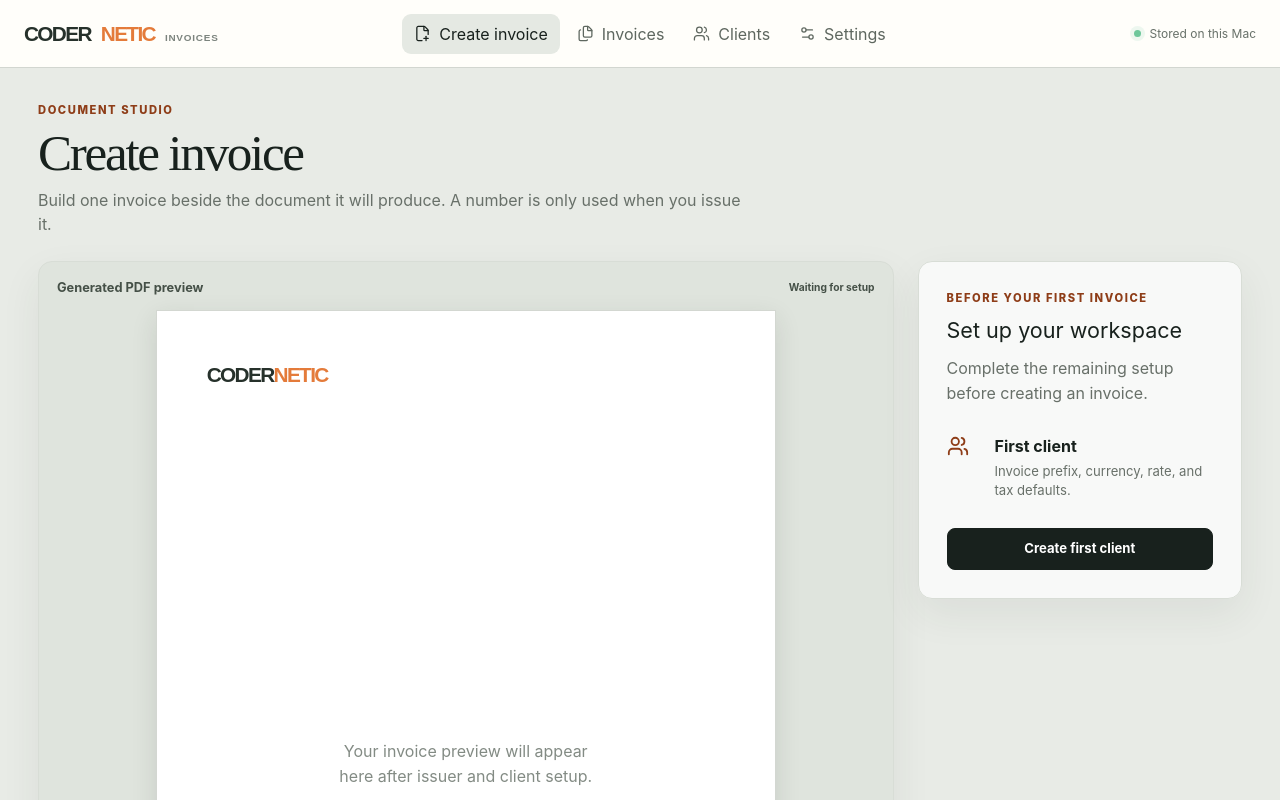
Test: empty workspace › queues a reverted value after an in-flight autosave
This screenshot has width=1280, height=800.
Click the button "Settings": (842, 34) [787,14,898,54]
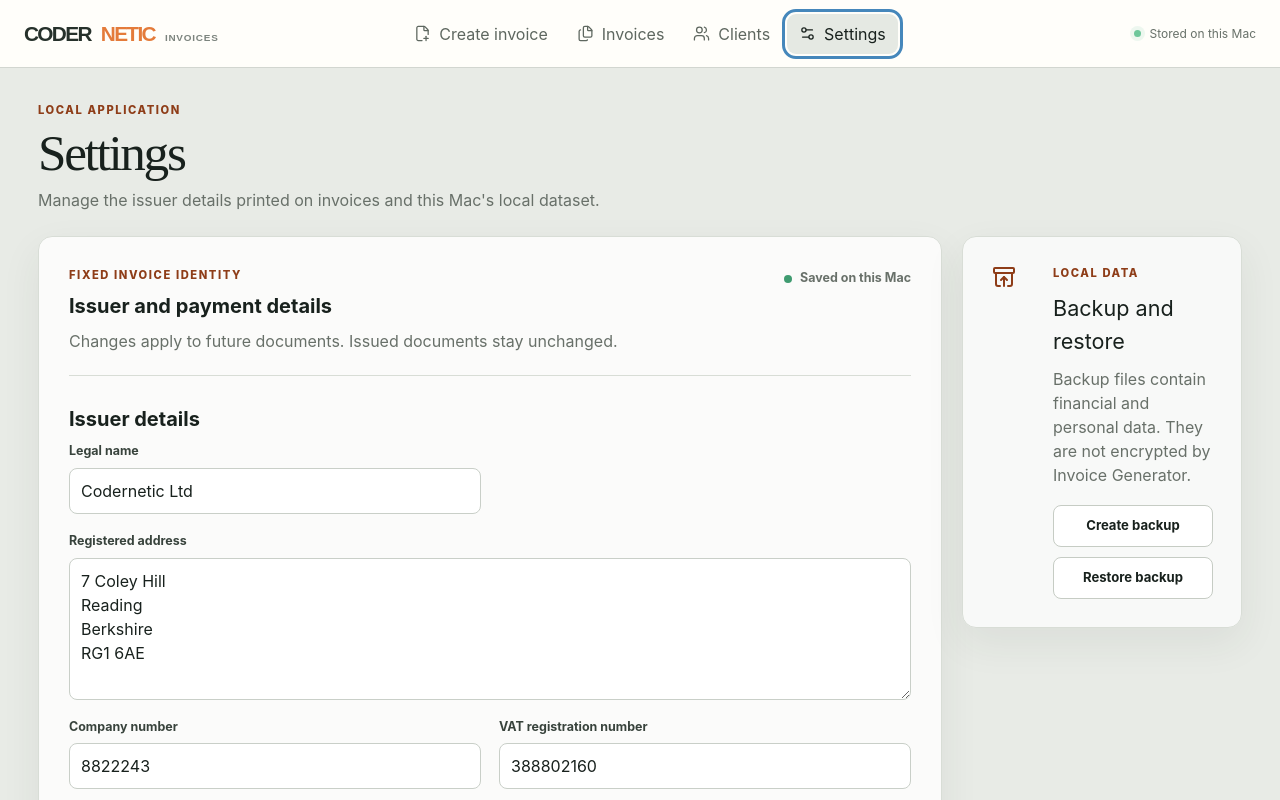
Replace the text in the field labelled "Legal name" with "Codernetic Studio Ltd": (275, 491) [69,468,481,514]
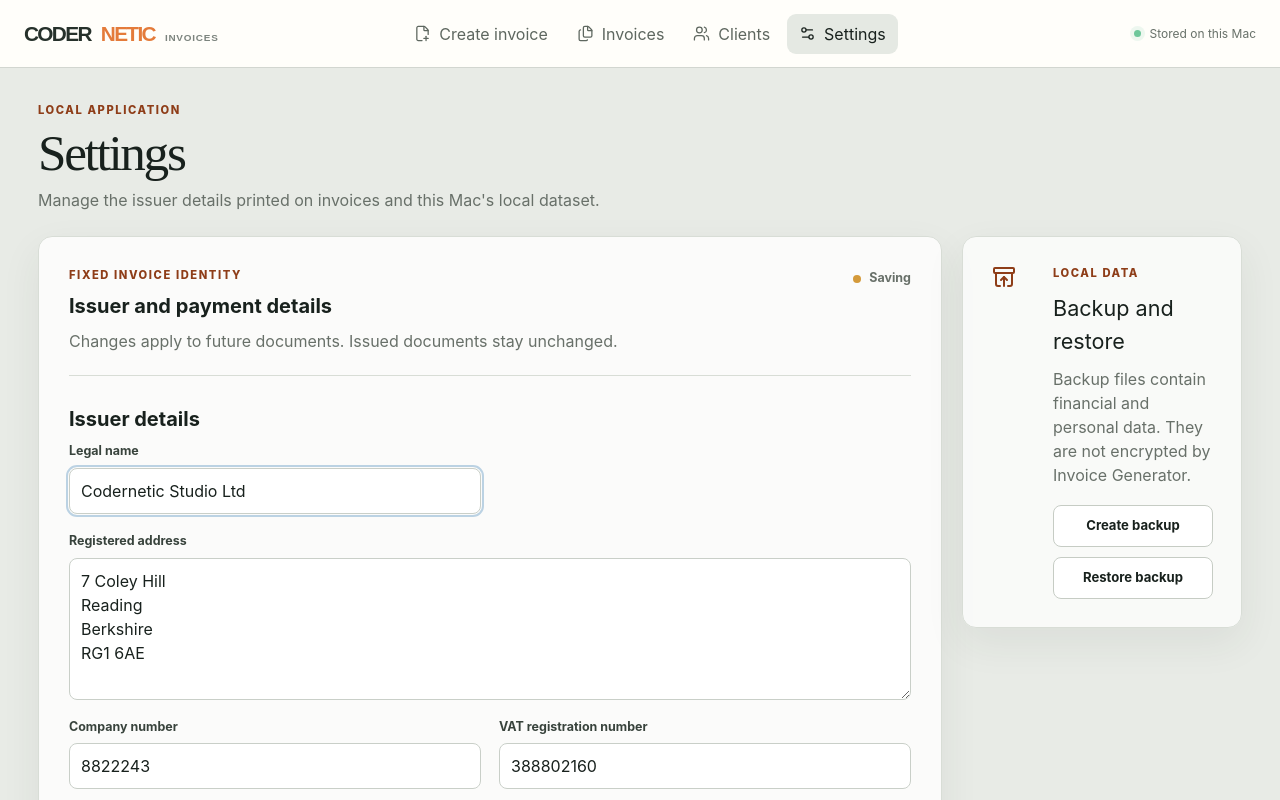
Replace the text in the field labelled "Legal name" with "Codernetic Ltd": (275, 491) [69,468,481,514]
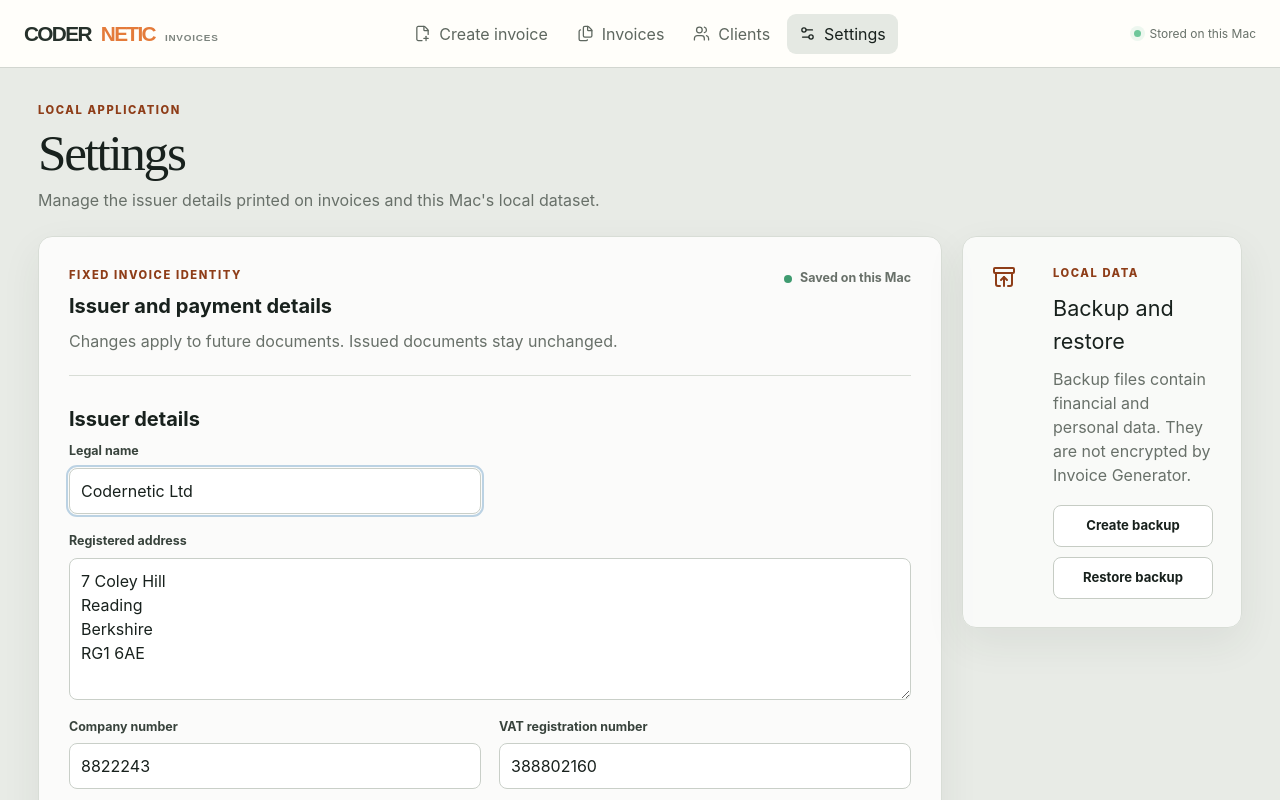
Check: the text "Saved on this Mac" is shown, box [784,267,911,288]
